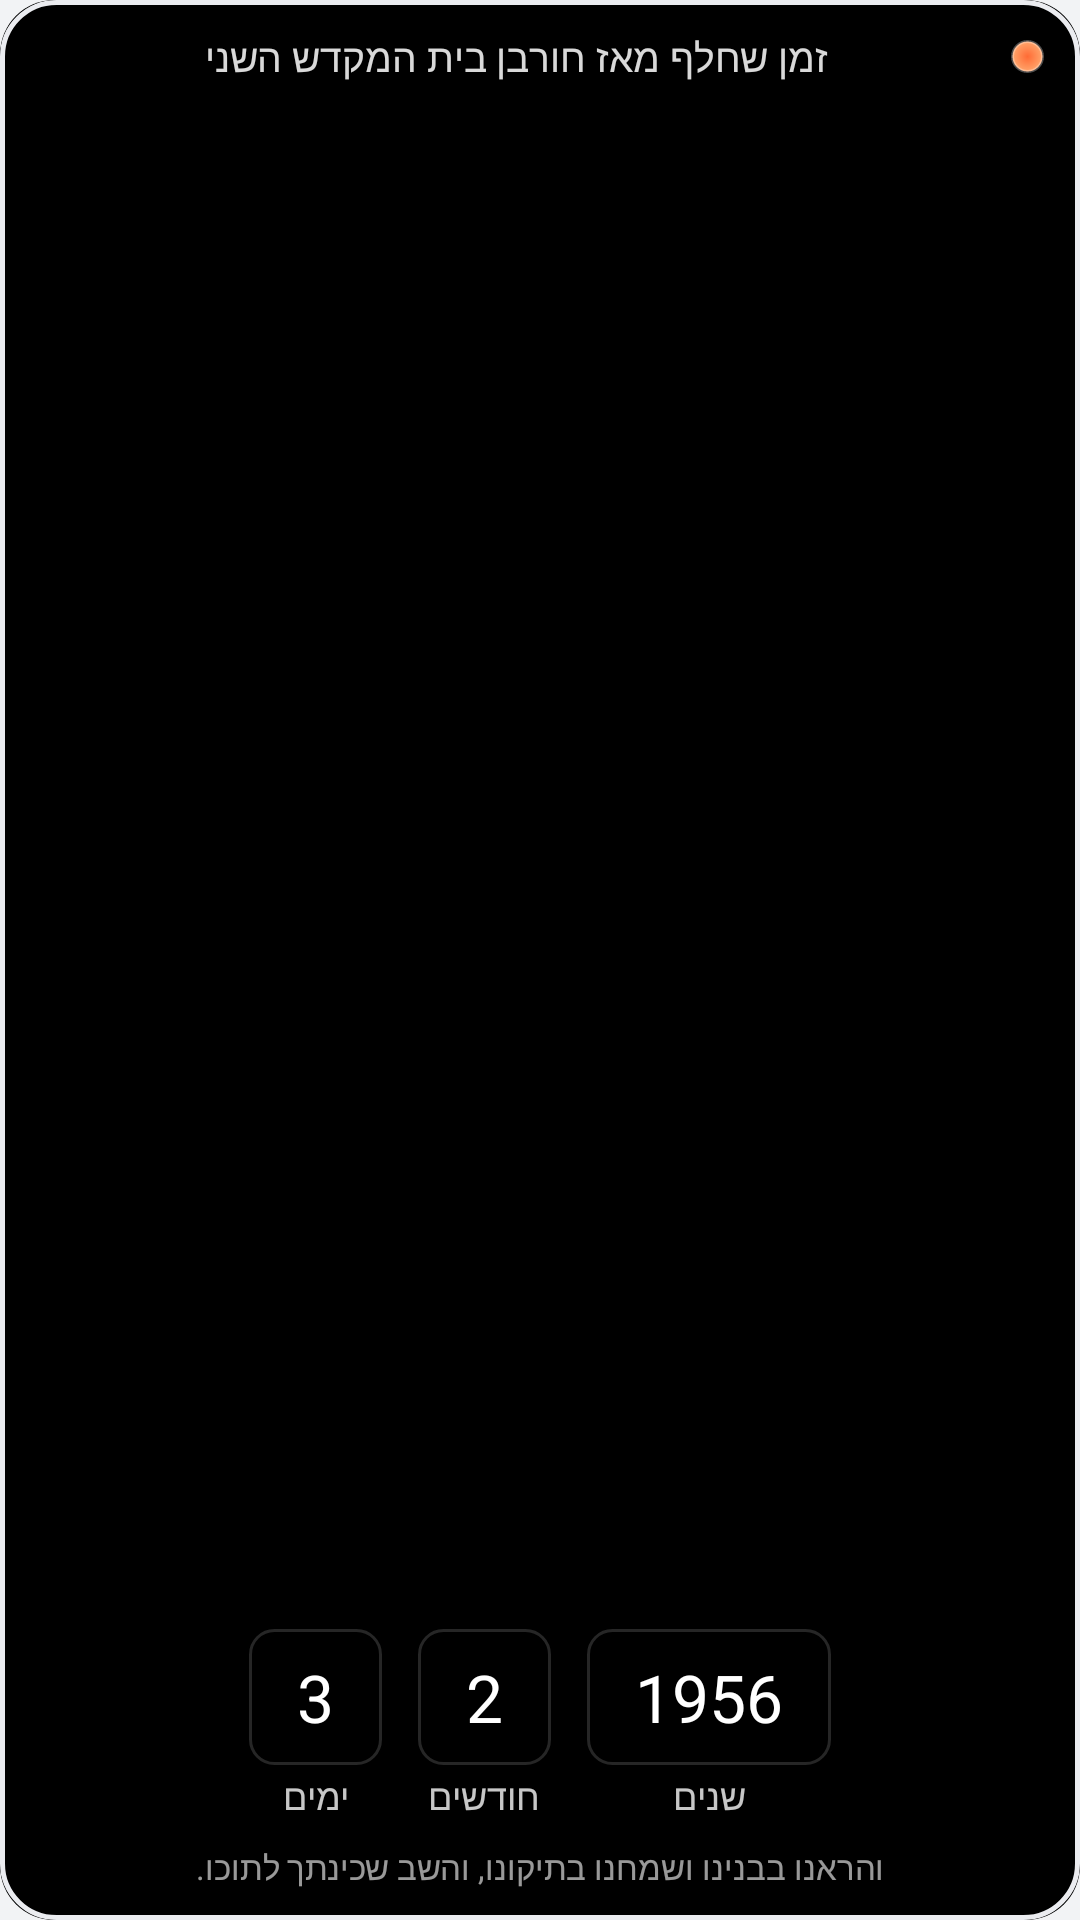

Point at icon controls on the screen. Image size 1080px x 1920px, points as (x=x, y=y).
appwidget temple dot: (x=1027, y=56)
